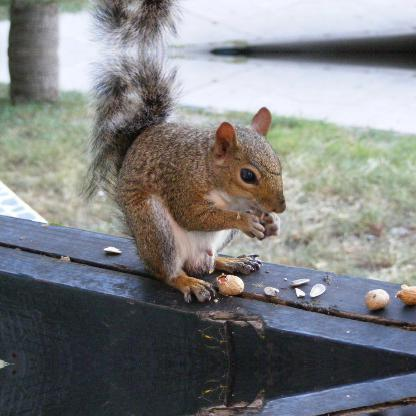Squirrel: (72, 52, 310, 306), (72, 0, 311, 53)
